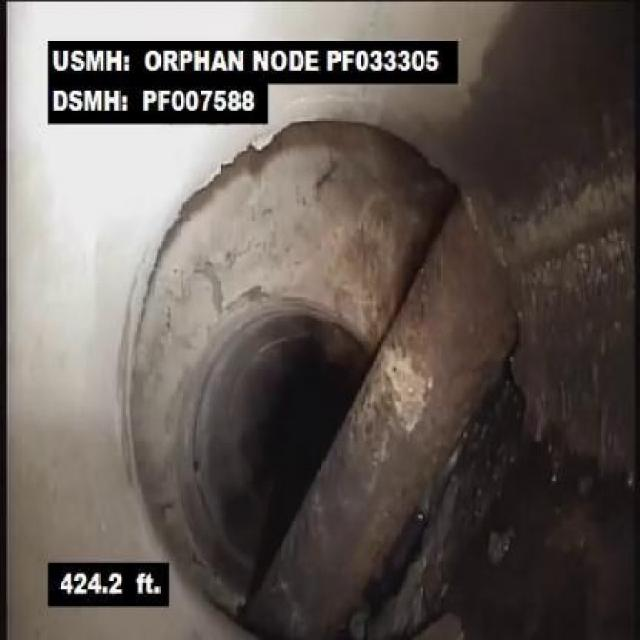Utility intrusion: (251, 177, 552, 638)
